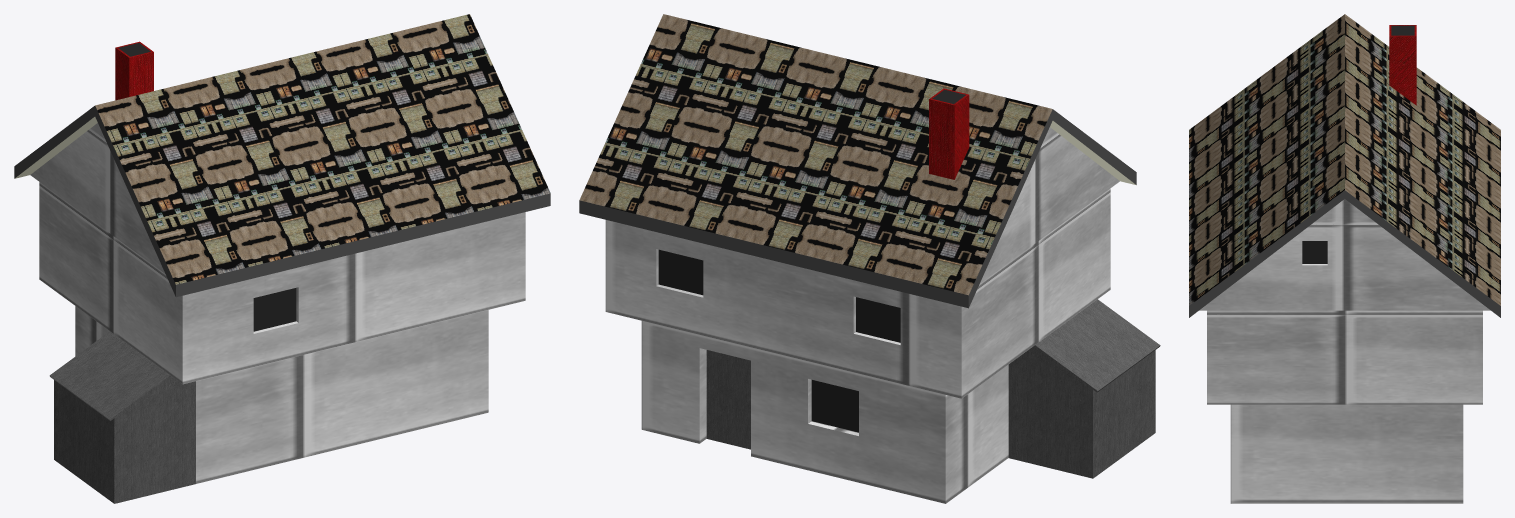
Rendered from centered_tex_prob_farm.dae.
The picture shows the model from 3 angles, left to right: view 1: azimuth 30°, elevation 25°; view 2: azimuth 150°, elevation 25°; view 3: azimuth 270°, elevation 25°; orthographic projection. The views are drawn at different scales.
Parts seen in each view (by area): view 1: Model, Group1, Group3; view 2: Model, Group1, Group4; view 3: Model, Group1, Group2.
Boxes of the visible parts, box(x1,y1,x2,y2) form: Model: box(14, 14, 550, 503); Group1: box(115, 41, 153, 100); Group3: box(253, 287, 298, 333); Model: box(579, 14, 1160, 503); Group1: box(929, 88, 969, 179); Group4: box(853, 296, 900, 344); Model: box(1189, 14, 1500, 503); Group1: box(1389, 25, 1416, 105); Group2: box(1302, 241, 1327, 265).
Size of the model in its own units: 10.03 by 6.7 by 8.28.
